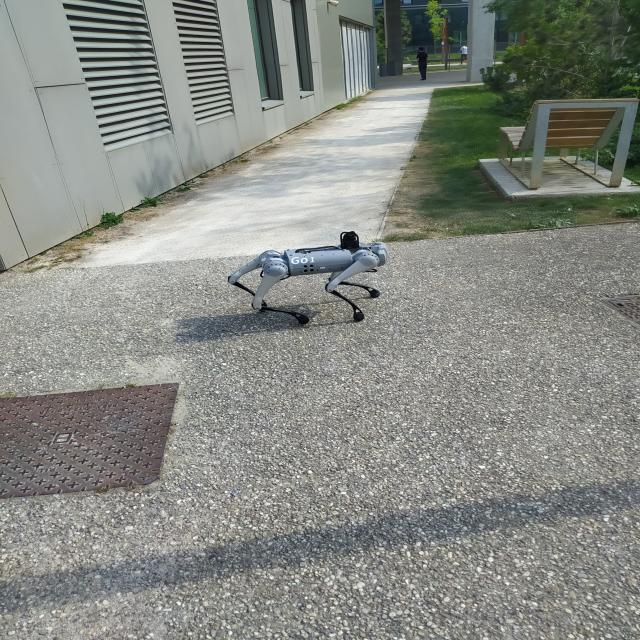unitree-go1-robot: (250, 228, 384, 310)
